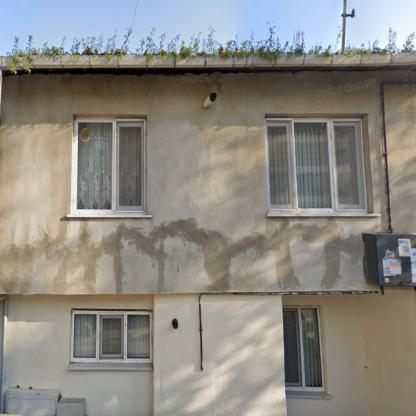window: (267, 121, 362, 208), (76, 121, 142, 211), (73, 314, 149, 358), (282, 308, 323, 386)
